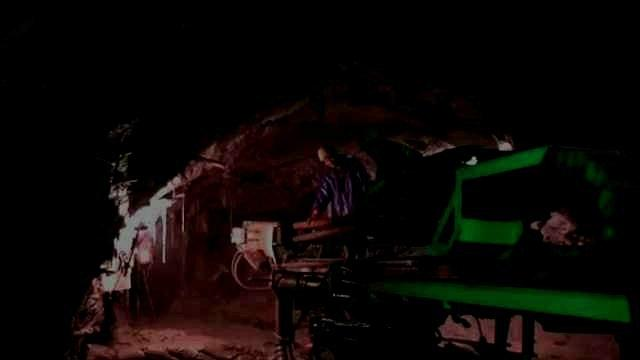helmet: (317, 145, 340, 168)
